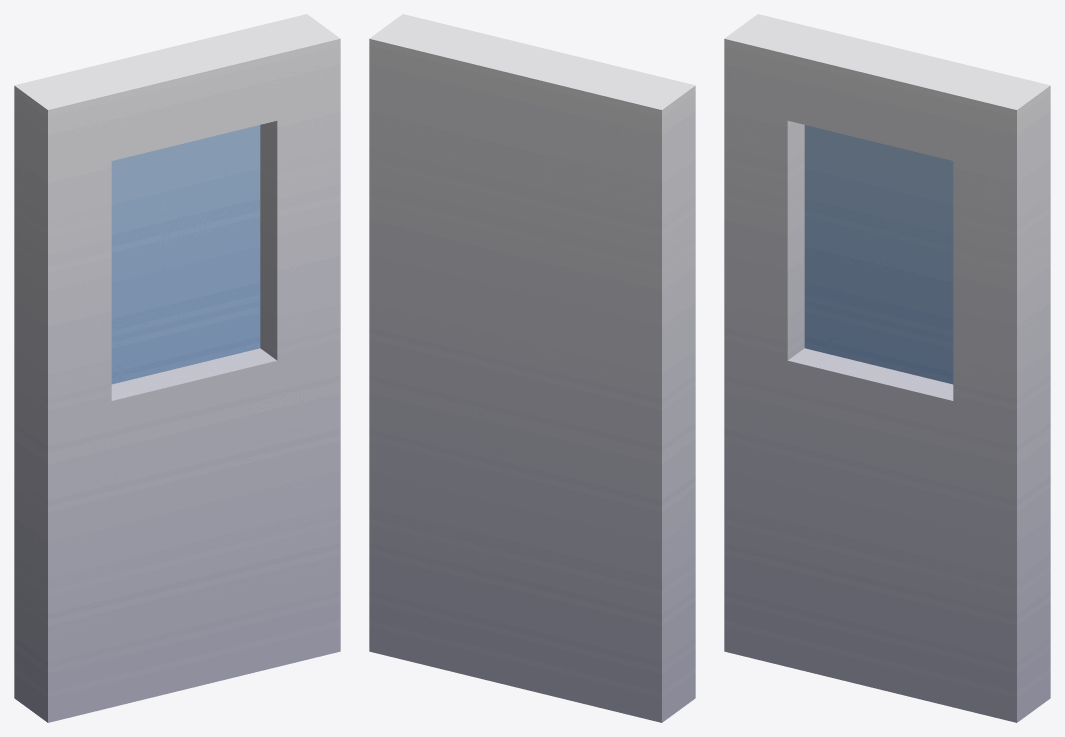
The model's file is door_white_window.glb.
3 views of the same model, side by side, from view 1: azimuth 30°, elevation 25°; view 2: azimuth 150°, elevation 25°; view 3: azimuth 330°, elevation 25° (orthographic).
Parts seen in each view (by area): view 1: door-white-window; view 2: door-white-window; view 3: door-white-window.
Part boxes in pixels (<box>): door-white-window: <box>14,14,340,722</box>; door-white-window: <box>369,14,695,722</box>; door-white-window: <box>724,14,1050,722</box>.
Bounding box in the file's own units: 0.25 × 0.5 × 0.05.
1 material, 1 textured.
